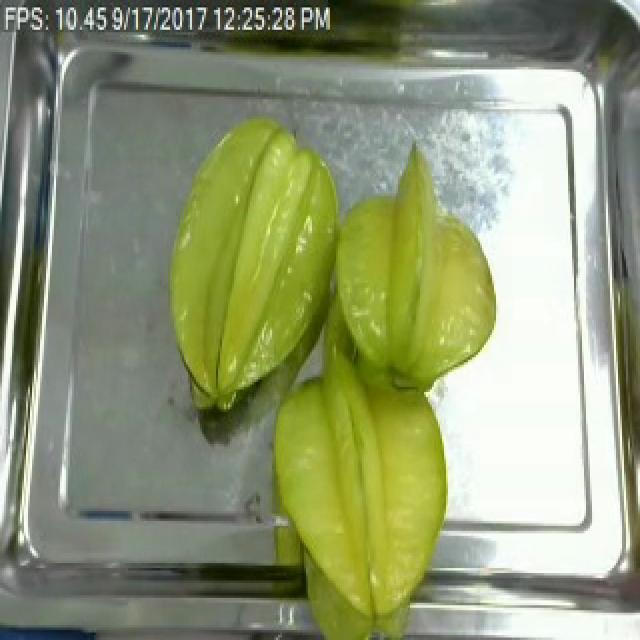fruit: (150, 99, 358, 414), (260, 352, 460, 638), (318, 181, 506, 404)
